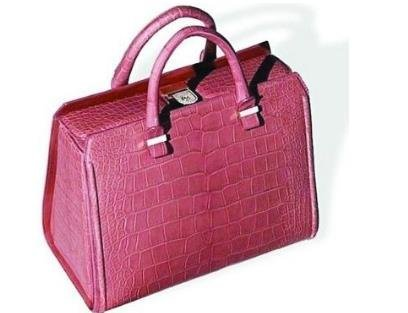cartera: (34, 3, 342, 313)
cuero: (114, 171, 304, 231)
